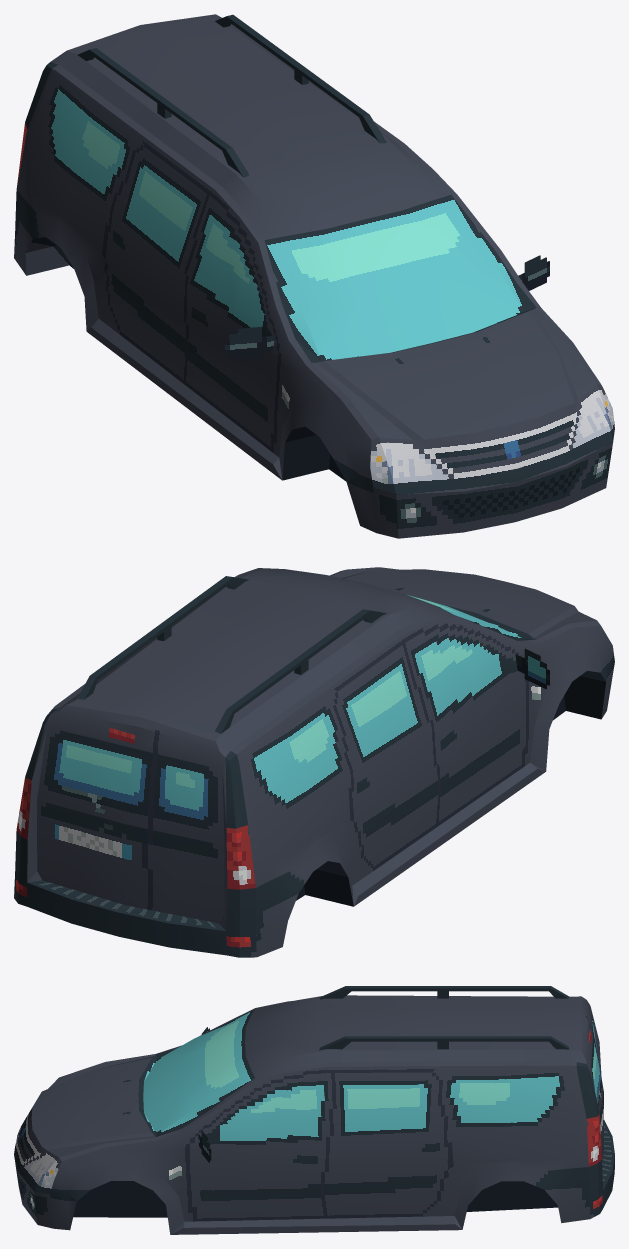
File: DaciaLogan.glb
3 views of the same model, one above another, from view 1: azimuth 30°, elevation 25°; view 2: azimuth 150°, elevation 25°; view 3: azimuth 270°, elevation 25° (orthographic). The views are drawn at different scales.
Visible parts, largest first — view 1: BodyLogan; view 2: BodyLogan; view 3: BodyLogan.
Part boxes in pixels (x1,y1,x2,y2): BodyLogan: (14, 14, 614, 538); BodyLogan: (14, 567, 614, 957); BodyLogan: (14, 986, 614, 1234).
Size of the model in its own units: 2.09 by 1.43 by 4.45.
Materials: 1 (1 with a texture image).
